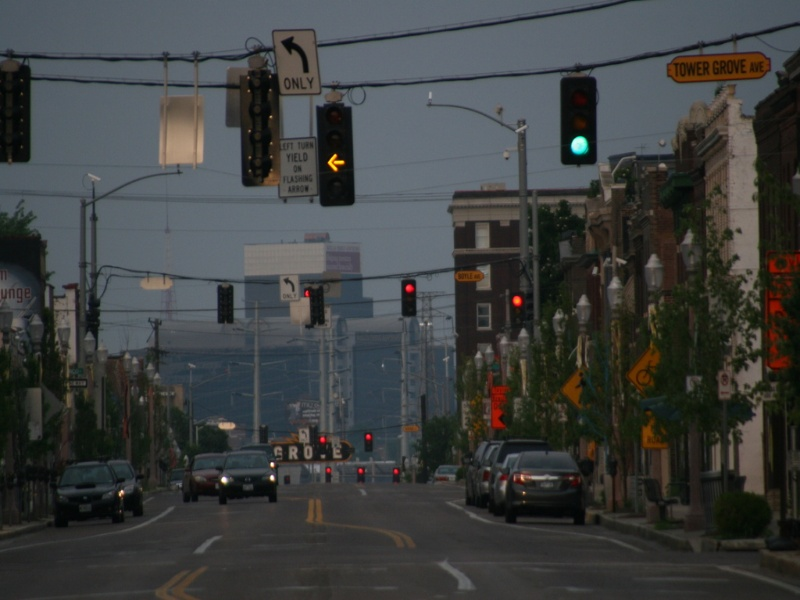green_light: (556, 133, 613, 163)
left_direction: (324, 151, 350, 184)
